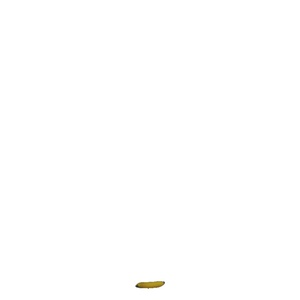banana: (133, 276, 168, 292)
